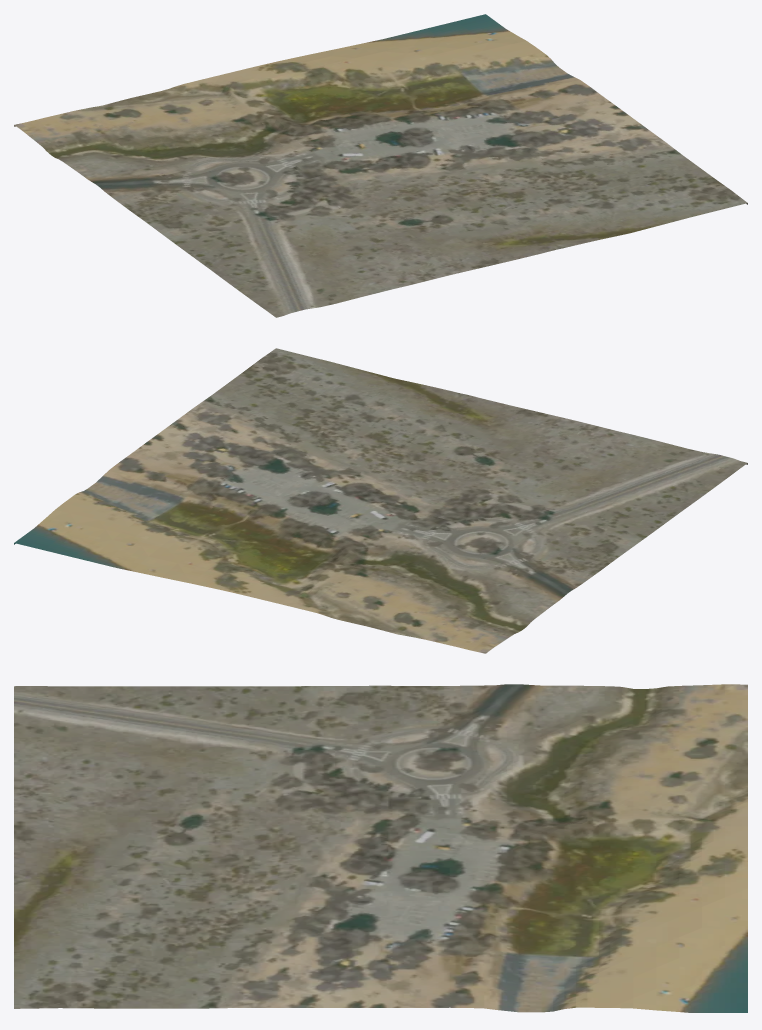
3 views of the same model, one above another, from view 1: azimuth 30°, elevation 25°; view 2: azimuth 150°, elevation 25°; view 3: azimuth 270°, elevation 25° (orthographic). The views are drawn at different scales.
Bounding box in the file's own units: 250 × 3.52 × 241.
Materials: 1 (1 with a texture image).
